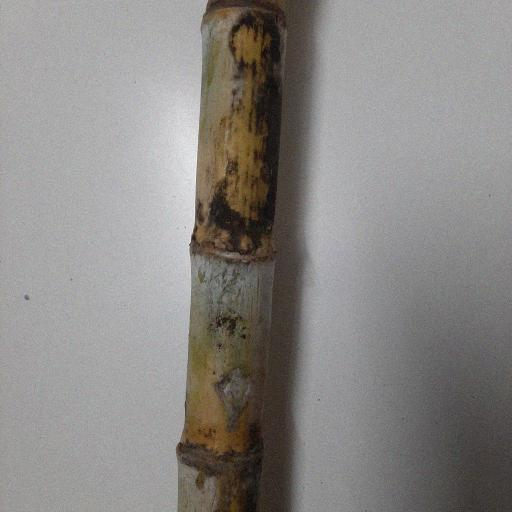Bud: (236, 233, 256, 256)
